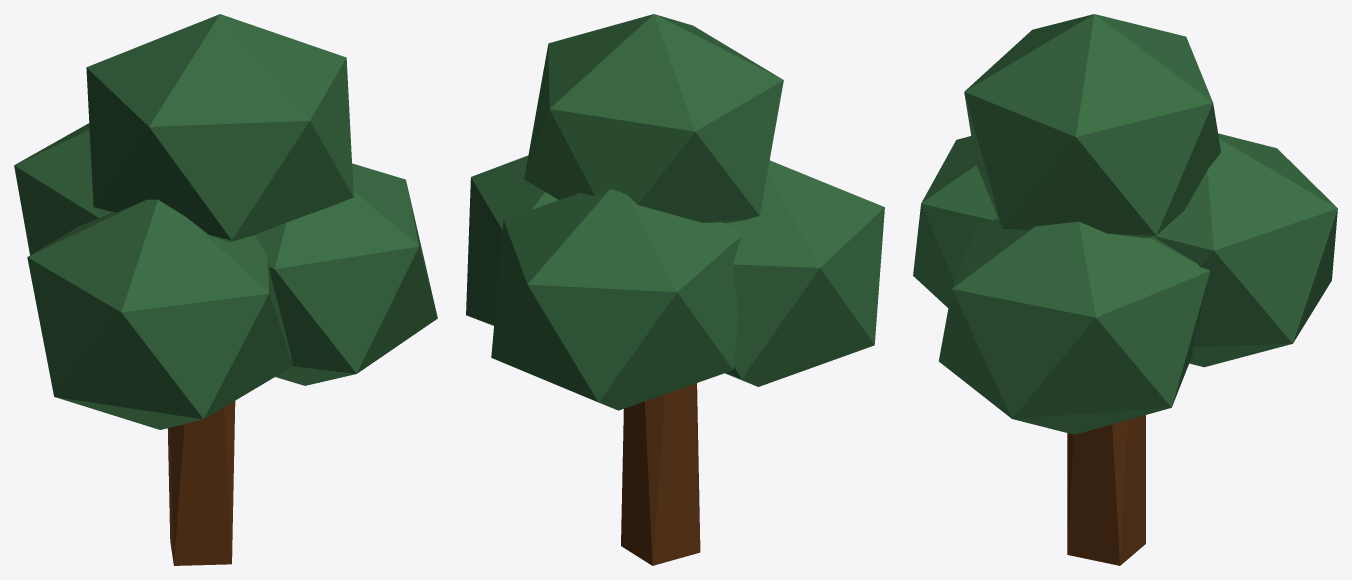
Rendered from mix-tree-1m.glb.
3 views of the same model, side by side, from view 1: azimuth 30°, elevation 25°; view 2: azimuth 150°, elevation 25°; view 3: azimuth 270°, elevation 25° (orthographic). The views are drawn at different scales.
Parts seen in each view (by area): view 1: Icosphere.004, Icosphere.003, Icosphere.001, Cylinder, Icosphere; view 2: Icosphere, Icosphere.004, Icosphere.003, Cylinder, Icosphere.001; view 3: Icosphere.004, Icosphere.001, Icosphere, Cylinder, Icosphere.003.
Part boxes in pixels (x1,y1,x2,y2): Icosphere.004: (86, 14, 353, 242); Icosphere.003: (27, 199, 292, 429); Icosphere.001: (255, 163, 437, 385); Cylinder: (167, 401, 235, 565); Icosphere: (14, 123, 109, 255); Icosphere: (491, 189, 741, 410); Icosphere.004: (524, 14, 783, 222); Icosphere.003: (725, 160, 884, 386); Cylinder: (621, 383, 700, 565); Icosphere.001: (466, 155, 558, 325); Icosphere.004: (964, 14, 1220, 238); Icosphere.001: (938, 219, 1210, 434); Icosphere: (1153, 133, 1337, 367); Cylinder: (1067, 415, 1145, 565); Icosphere.003: (913, 136, 998, 307).
Size of the model in its own units: 0.8453 by 1.14 by 0.8109.
